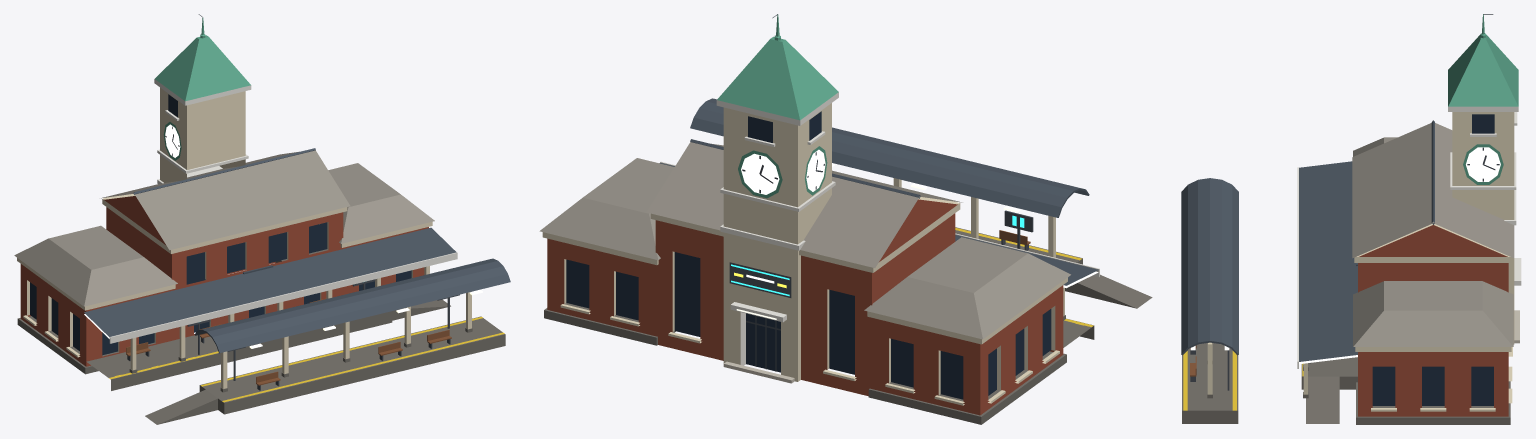
The model's file is train_station_b.glb.
3 renders of one model, left to right at view 1: azimuth 30°, elevation 25°; view 2: azimuth 150°, elevation 25°; view 3: azimuth 270°, elevation 25°, orthographic. The views are drawn at different scales.
Parts seen in each view (by area): view 1: Body; view 2: Body; view 3: Body.
Boxes of the visible parts, x1,y1,x2,y2 form: Body: [14, 14, 510, 424]; Body: [539, 14, 1152, 424]; Body: [1181, 14, 1521, 424].
Size of what is drawn, in the model's own units: 28.75 by 21.42 by 21.02.
